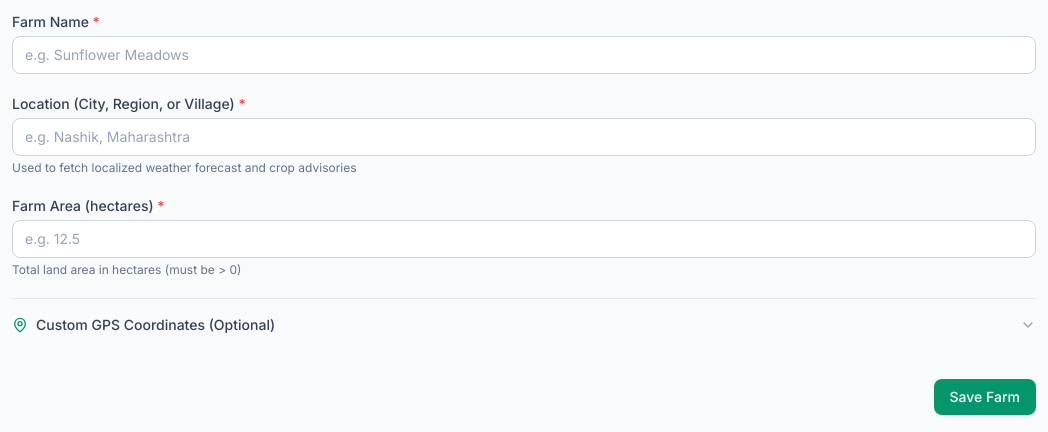
Scenario: Frontend Farm Management Component Tests (Feature 2) › BR-1: rejects area <= 0 with validation message
In the field labelled "Farm Name *": (524, 55) [12,36,1036,74], type "Green Farm"
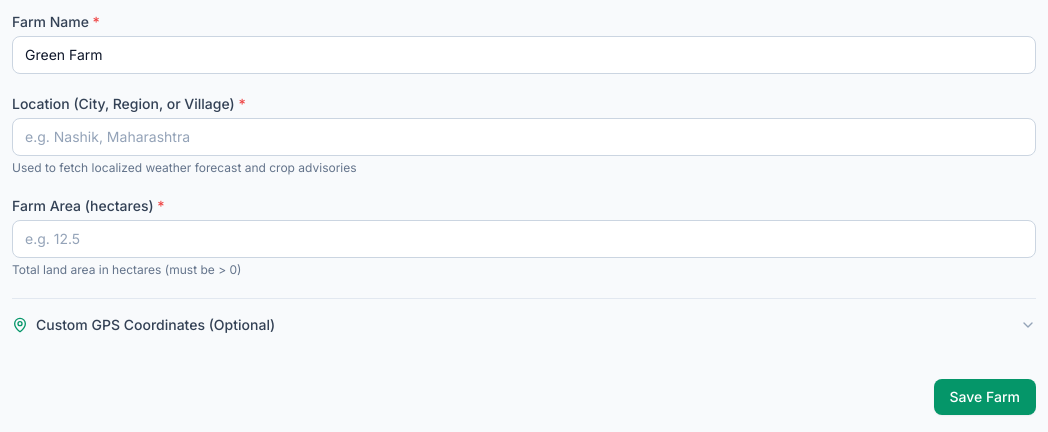
In the field labelled "Location (City, Region, or Village) *": (524, 137) [12,118,1036,156], type "Pune"
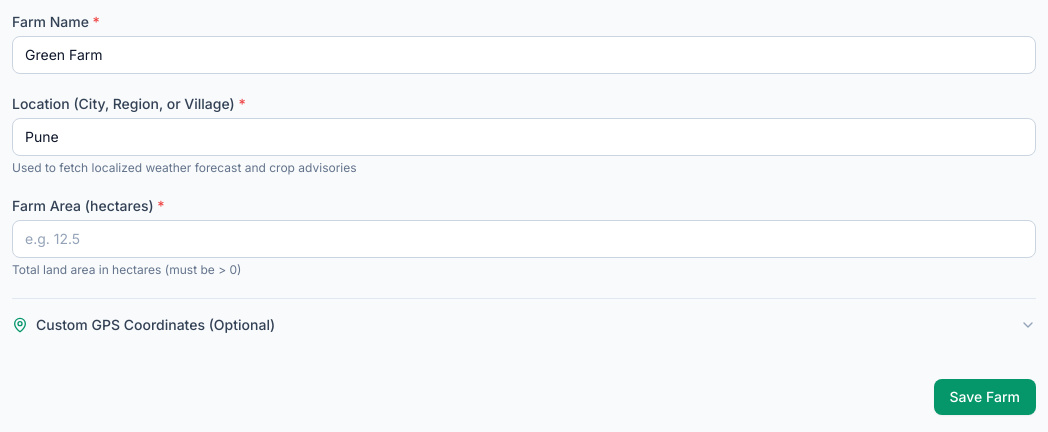
In the number field labelled "Farm Area (hectares) *": (524, 239) [12,220,1036,258], type "0"
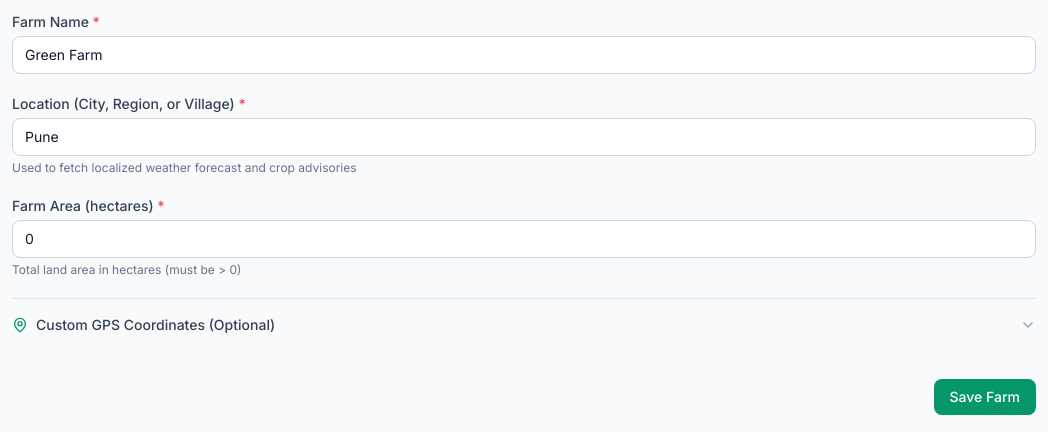
Click the button "Save Farm": click(985, 397) [934,379,1036,415]
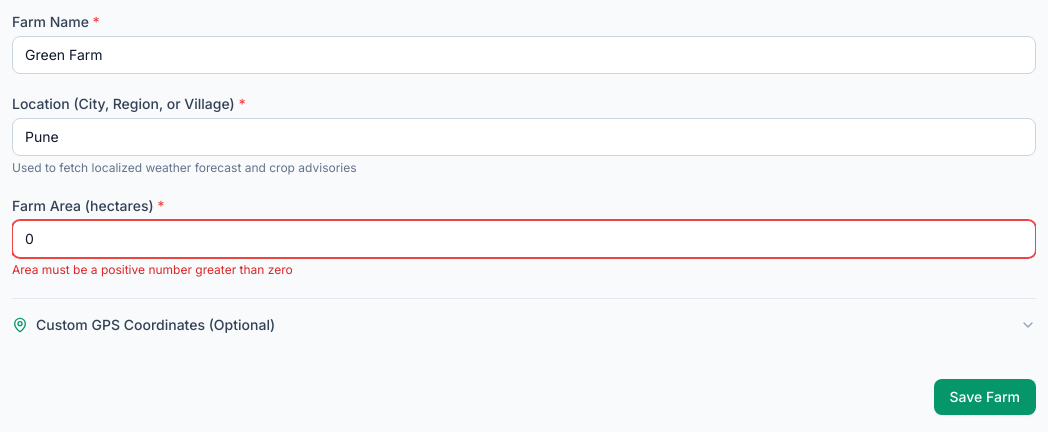
Expected: the text "Area must be a positive number greater than zero" is shown, [12,262,293,277]
